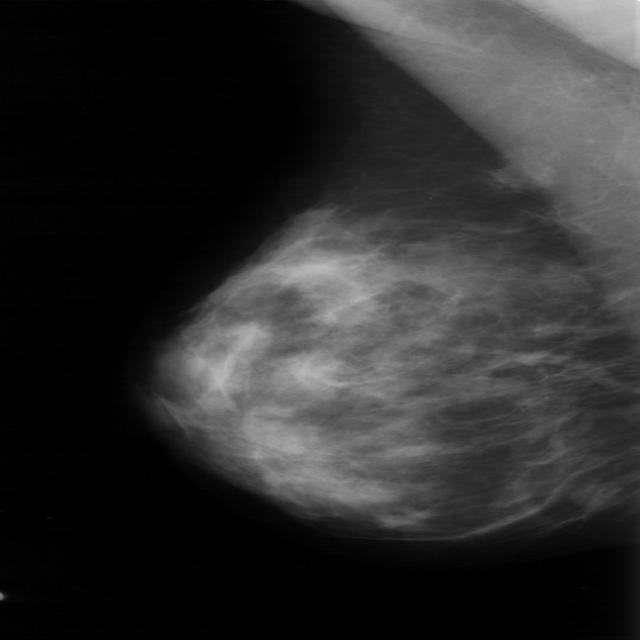tumour: (567, 480, 621, 510)
